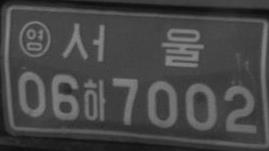0: (183, 82, 218, 132), (146, 79, 179, 129), (17, 70, 46, 119)
2: (223, 84, 257, 135)
6: (50, 71, 80, 121)
7: (111, 76, 139, 126)
서울_D: (61, 21, 204, 69)
영: (18, 19, 51, 58)
하: (82, 78, 107, 122)
